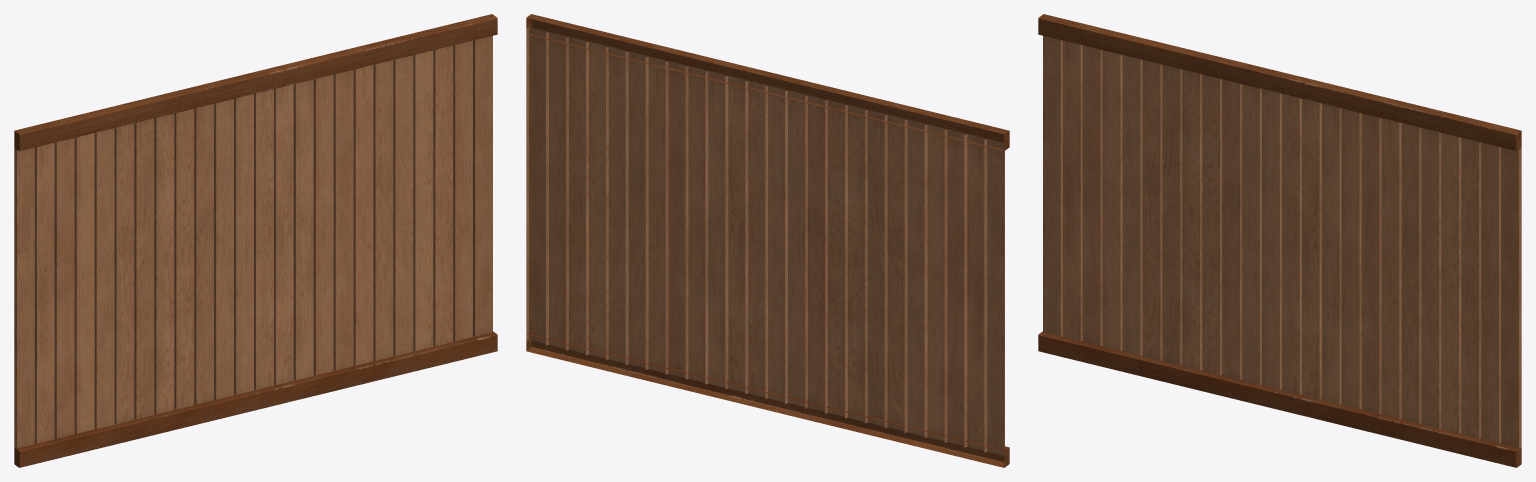
The model's file is Panel_150x100.FBX.
3 views of the same model, side by side, from view 1: azimuth 30°, elevation 25°; view 2: azimuth 150°, elevation 25°; view 3: azimuth 330°, elevation 25° (orthographic).
Visible parts, largest first — view 1: Panel_150x100; view 2: Panel_150x100; view 3: Panel_150x100.
Boxes of the visible parts, x1,y1,x2,y2 form: Panel_150x100: (14,14,497,467); Panel_150x100: (526,14,1009,467); Panel_150x100: (1038,14,1521,467).
Bounding box in the file's own units: 150 × 100 × 3.
